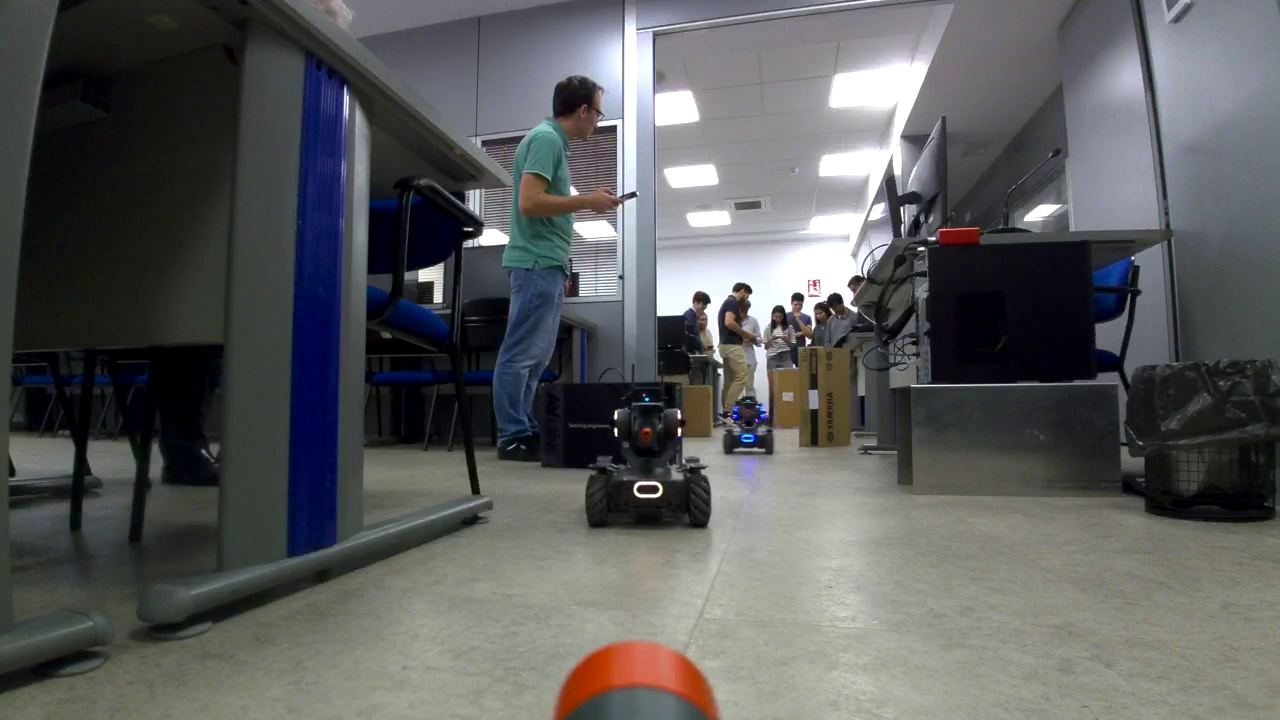robot: (587, 404, 712, 529), (719, 400, 776, 455)
